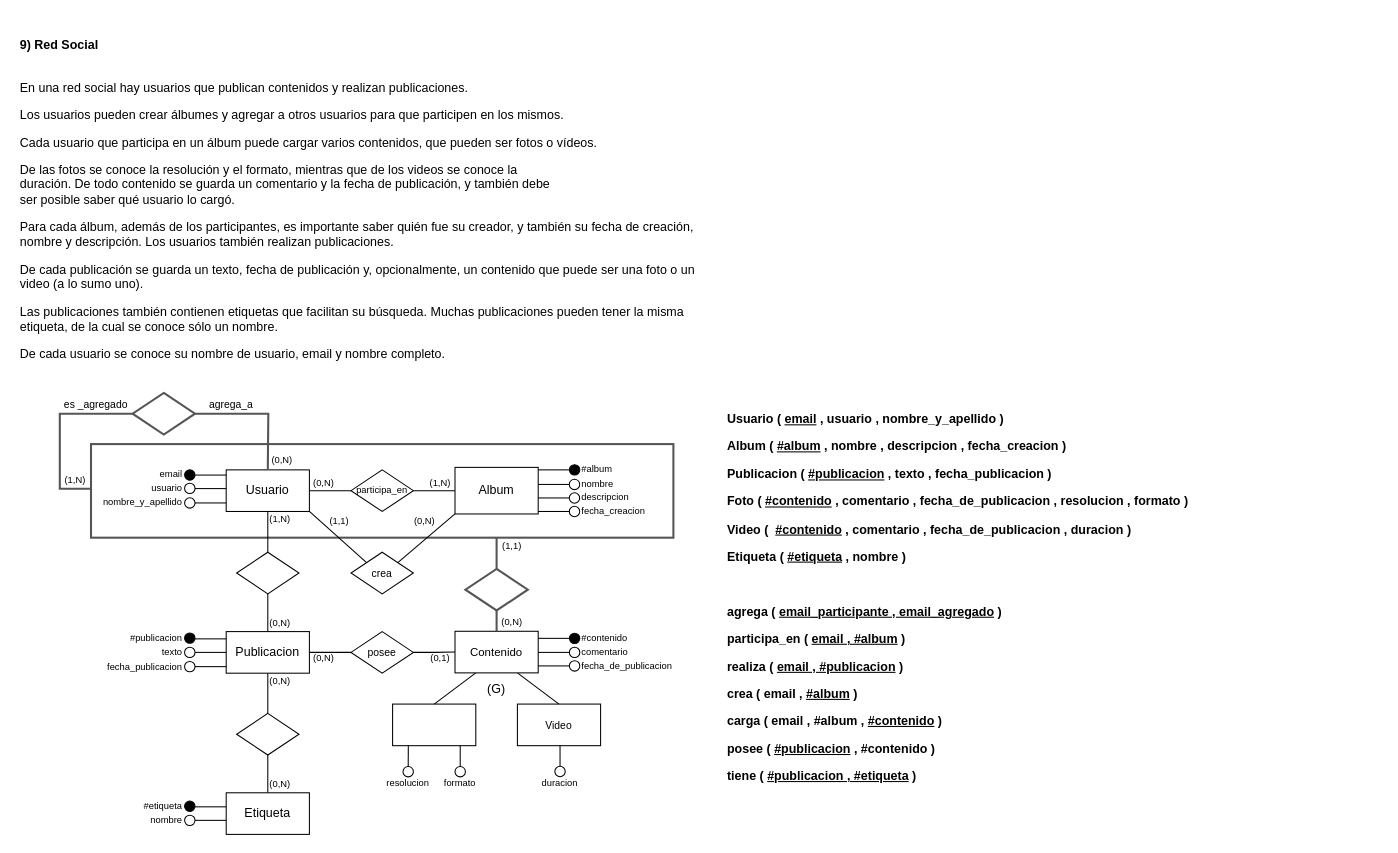
This 1398x853 diagram has some shape labels left out. Here are the shapes that lost their labels. From the top down, the centre of each, then its label:
At (163,413): "agrega".
At (267,572): "realiza".
At (496,589): "carga".
At (267,733): "tiene".
At (434,724): "Foto".
